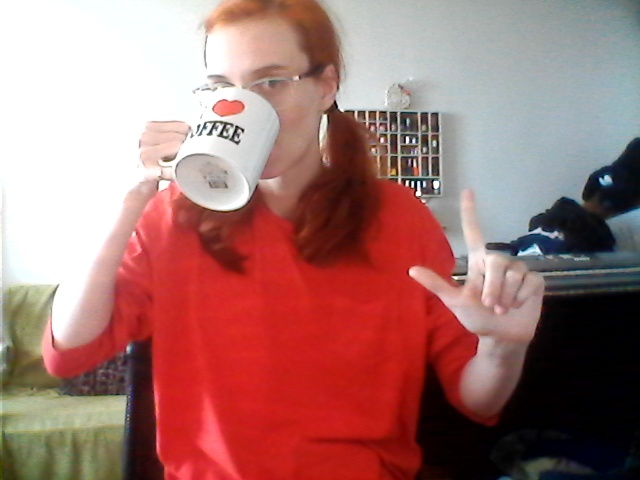l: (403, 187, 548, 344)
